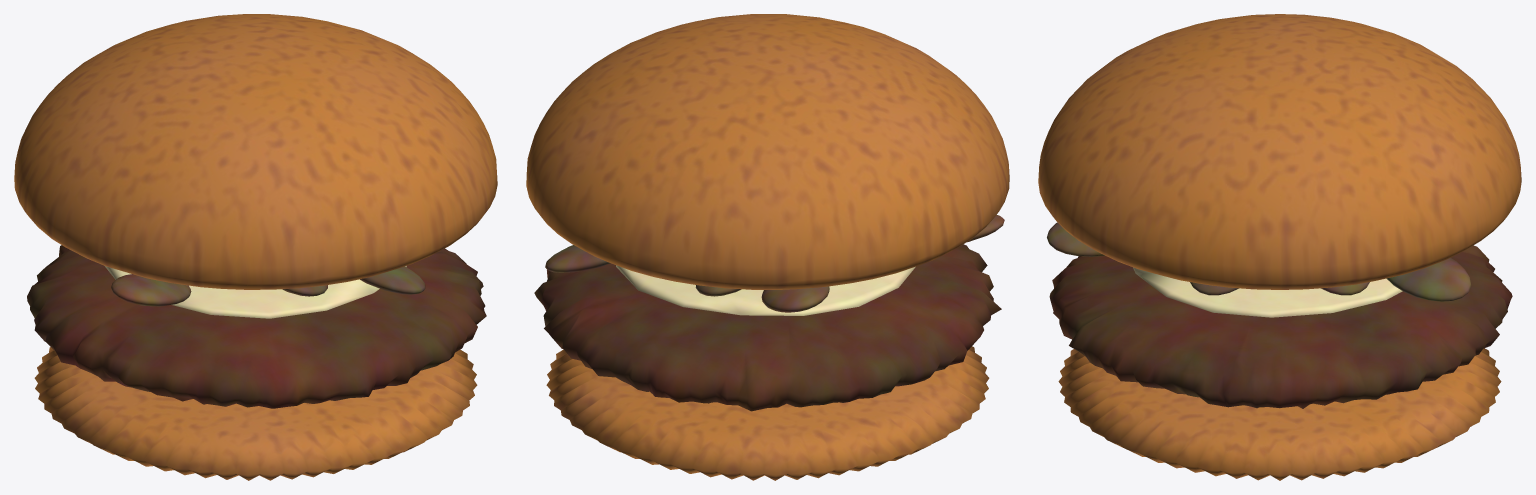
Rendered from truffle-mushroom-cheese-burger-balanced.glb.
The picture shows the model from 3 angles, left to right: view 1: azimuth 30°, elevation 25°; view 2: azimuth 150°, elevation 25°; view 3: azimuth 270°, elevation 25°; orthographic projection.
Parts seen in each view (by area): view 1: Mesh_Truffle_Brioche_Buns, Mesh_Seared_Gourmet_Patty, Mesh_Swiss_Gruyere_Cheese_Blanket, Mesh_Sauteed_Wild_Mushrooms_And_Aioli; view 2: Mesh_Truffle_Brioche_Buns, Mesh_Seared_Gourmet_Patty, Mesh_Swiss_Gruyere_Cheese_Blanket, Mesh_Sauteed_Wild_Mushrooms_And_Aioli; view 3: Mesh_Truffle_Brioche_Buns, Mesh_Seared_Gourmet_Patty, Mesh_Swiss_Gruyere_Cheese_Blanket, Mesh_Sauteed_Wild_Mushrooms_And_Aioli.
Part boxes in pixels (x1,y1,x2,y2): Mesh_Truffle_Brioche_Buns: (14, 14, 497, 480); Mesh_Seared_Gourmet_Patty: (27, 245, 486, 408); Mesh_Swiss_Gruyere_Cheese_Blanket: (105, 266, 406, 318); Mesh_Sauteed_Wild_Mushrooms_And_Aioli: (111, 266, 425, 306); Mesh_Truffle_Brioche_Buns: (526, 14, 1009, 480); Mesh_Seared_Gourmet_Patty: (534, 244, 1001, 411); Mesh_Swiss_Gruyere_Cheese_Blanket: (616, 265, 915, 315); Mesh_Sauteed_Wild_Mushrooms_And_Aioli: (545, 215, 1004, 312); Mesh_Truffle_Brioche_Buns: (1038, 14, 1521, 480); Mesh_Seared_Gourmet_Patty: (1049, 245, 1512, 408); Mesh_Swiss_Gruyere_Cheese_Blanket: (1133, 267, 1402, 317); Mesh_Sauteed_Wild_Mushrooms_And_Aioli: (1047, 222, 1471, 301).
Size of the model in its own units: 2 by 1.67 by 2.
4 materials, 4 textured.
